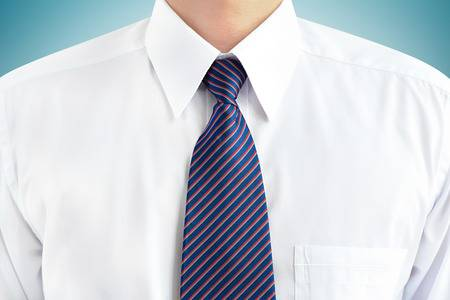F_shirt: (3, 1, 449, 300)
F_tie: (182, 60, 283, 300)
